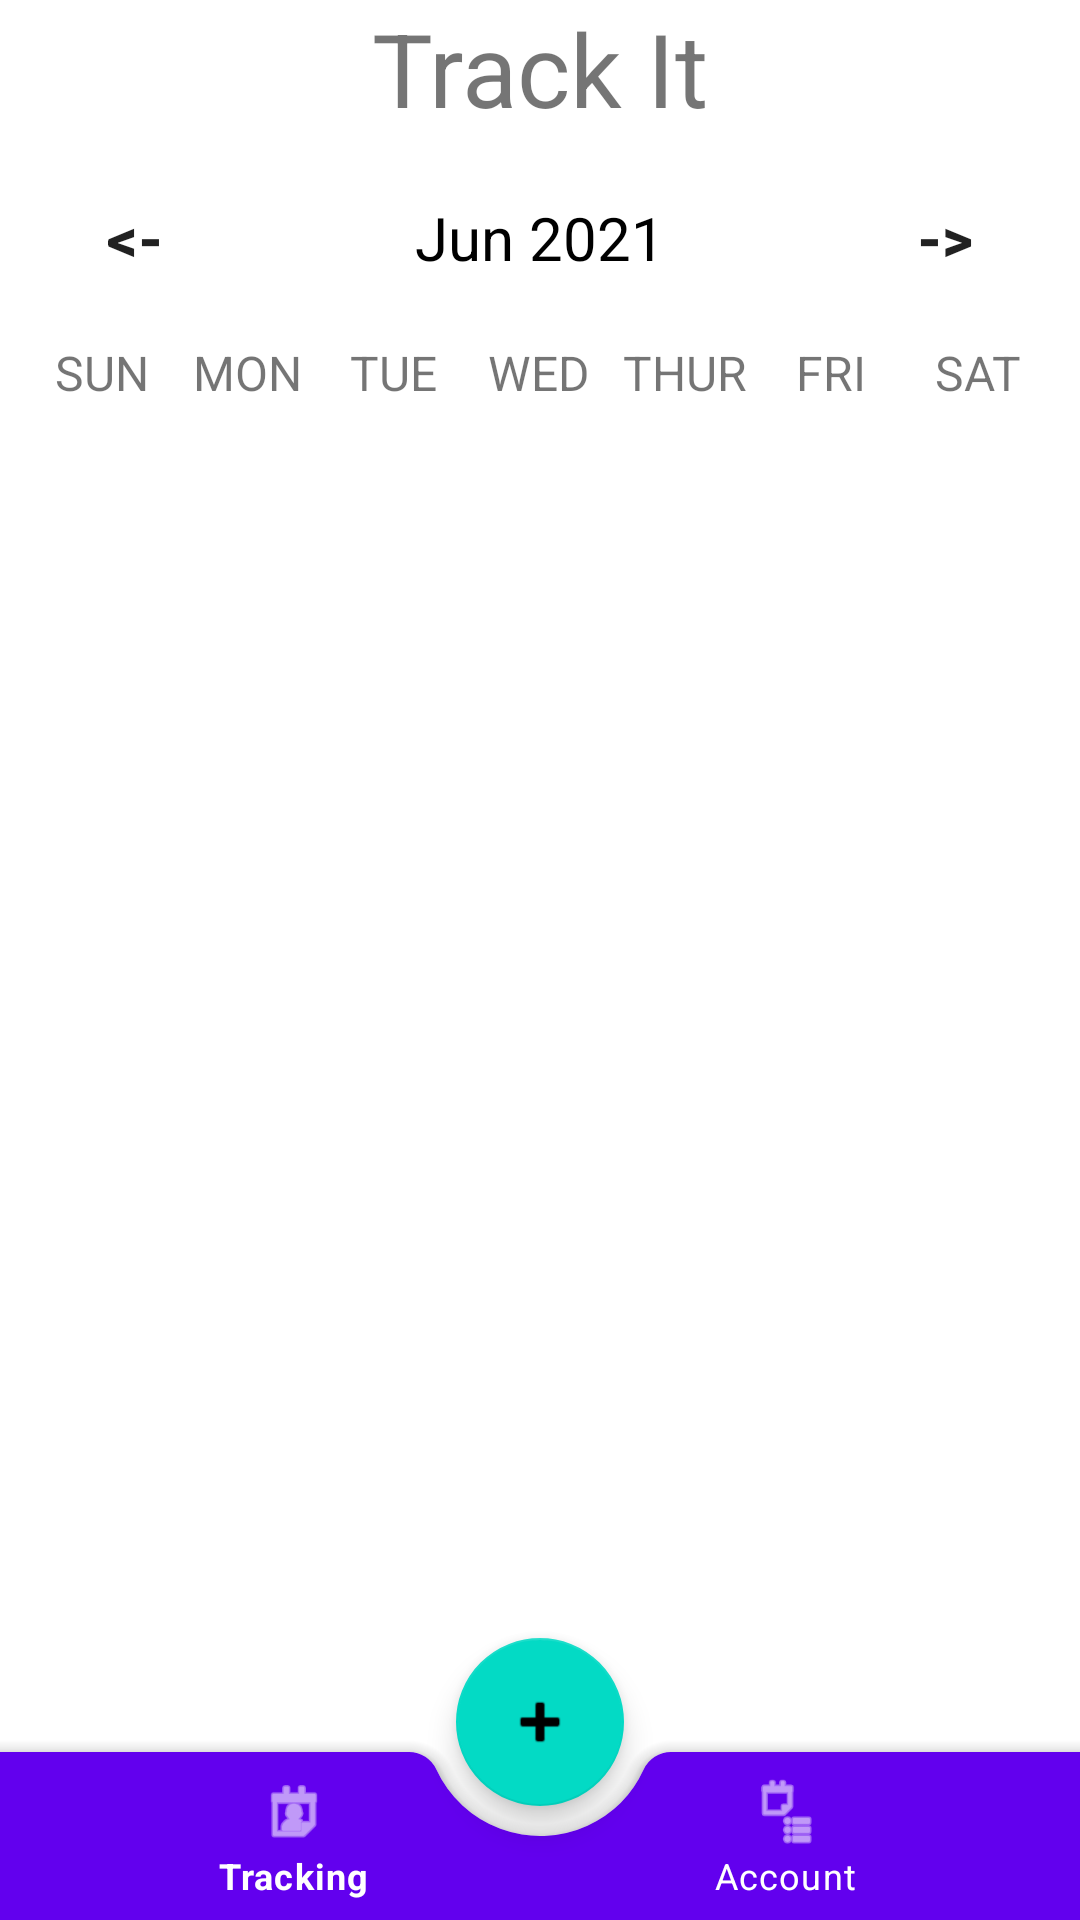

Screen size 1080w x 1920h. Icon name, then its center in pixels as [x,y]:
add: [540,1752]
